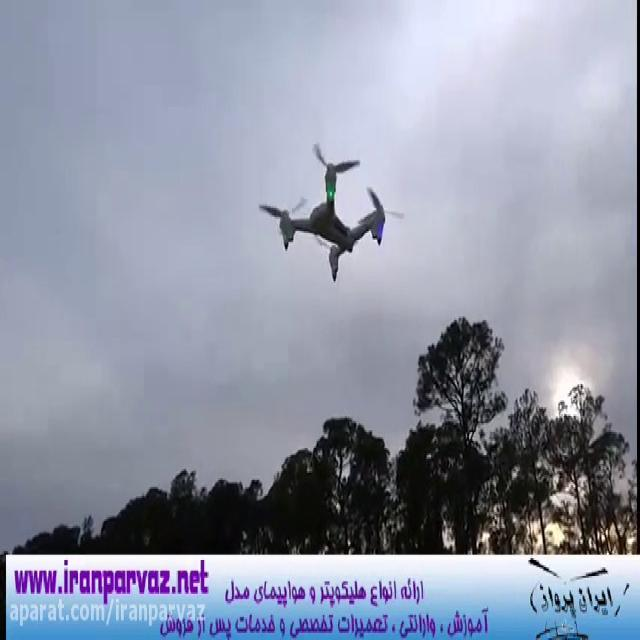drone: (254, 137, 406, 284)
